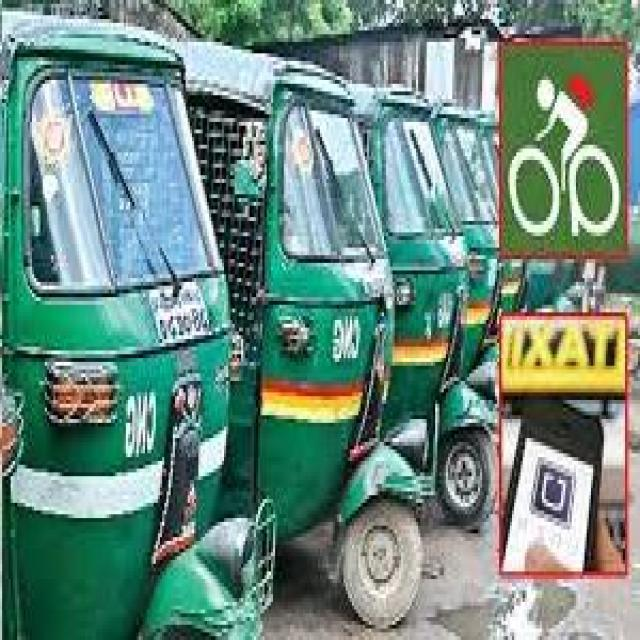CNG: (1, 19, 279, 640), (234, 39, 424, 640), (374, 95, 498, 543)
